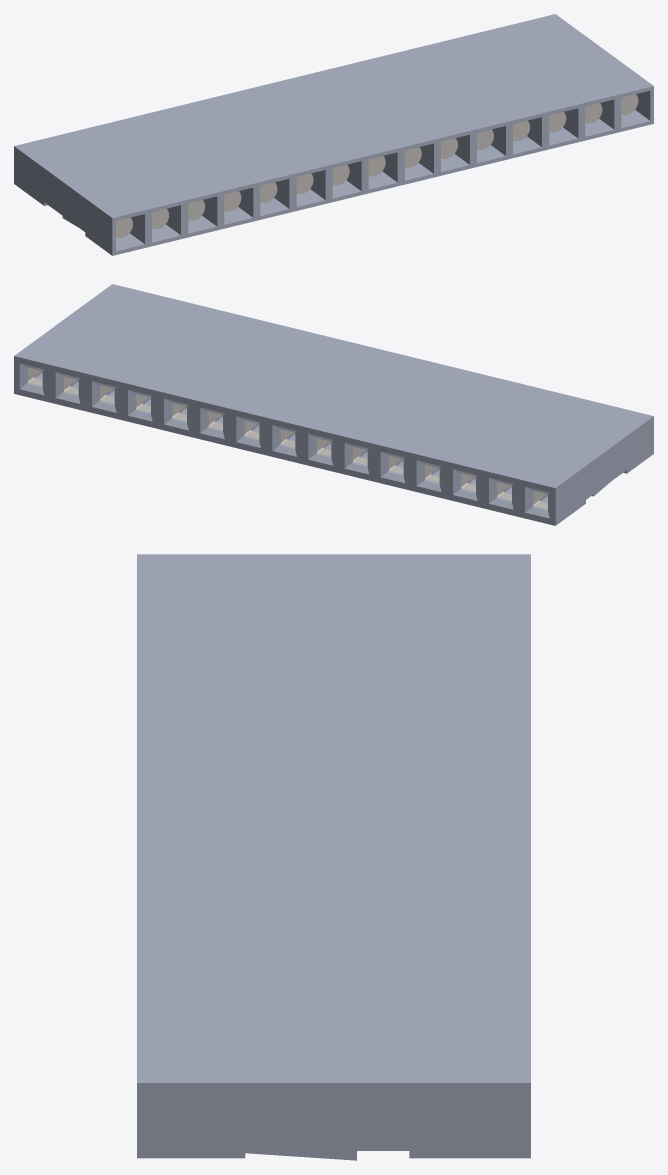
3 views of the same model, one above another, from view 1: azimuth 30°, elevation 25°; view 2: azimuth 150°, elevation 25°; view 3: azimuth 270°, elevation 25° (orthographic). The views are drawn at different scales.
Parts seen in each view (by area): view 1: DS1071-1x15; view 2: DS1071-1x15; view 3: DS1071-1x15.
Boxes of the visible parts, <box> form: DS1071-1x15: <box>14,14,653,255</box>; DS1071-1x15: <box>14,284,653,525</box>; DS1071-1x15: <box>137,554,530,1160</box>.
Size of the model in its own units: 0.0283 by 0.00207 by 0.0089.
